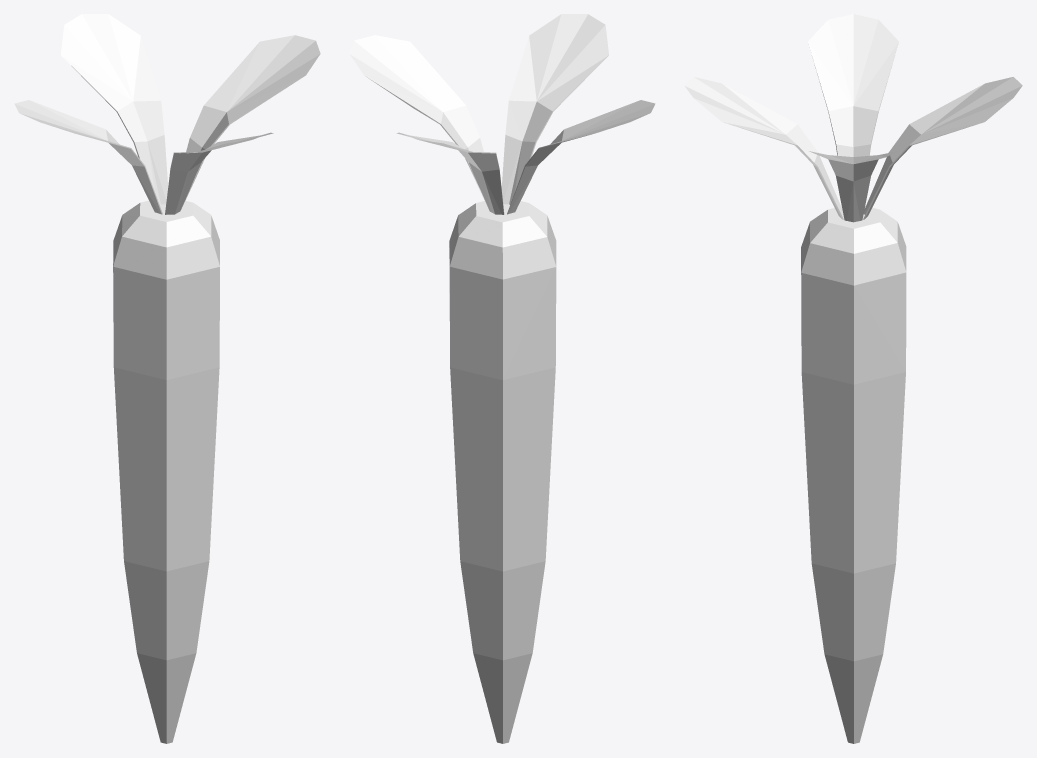
File: Crop_Carrot_01.glb
3 renders of one model, left to right at view 1: azimuth 30°, elevation 25°; view 2: azimuth 150°, elevation 25°; view 3: azimuth 270°, elevation 25°, orthographic.
Parts seen in each view (by area): view 1: Crop_Carrot_01; view 2: Crop_Carrot_01; view 3: Crop_Carrot_01.
Part boxes in pixels (x1,y1,x2,y2): Crop_Carrot_01: [14, 14, 320, 743]; Crop_Carrot_01: [349, 14, 655, 743]; Crop_Carrot_01: [684, 14, 1022, 743].
Bounding box in the file's own units: 0.2646 × 0.5653 × 0.2645.
1 material, 1 textured.
